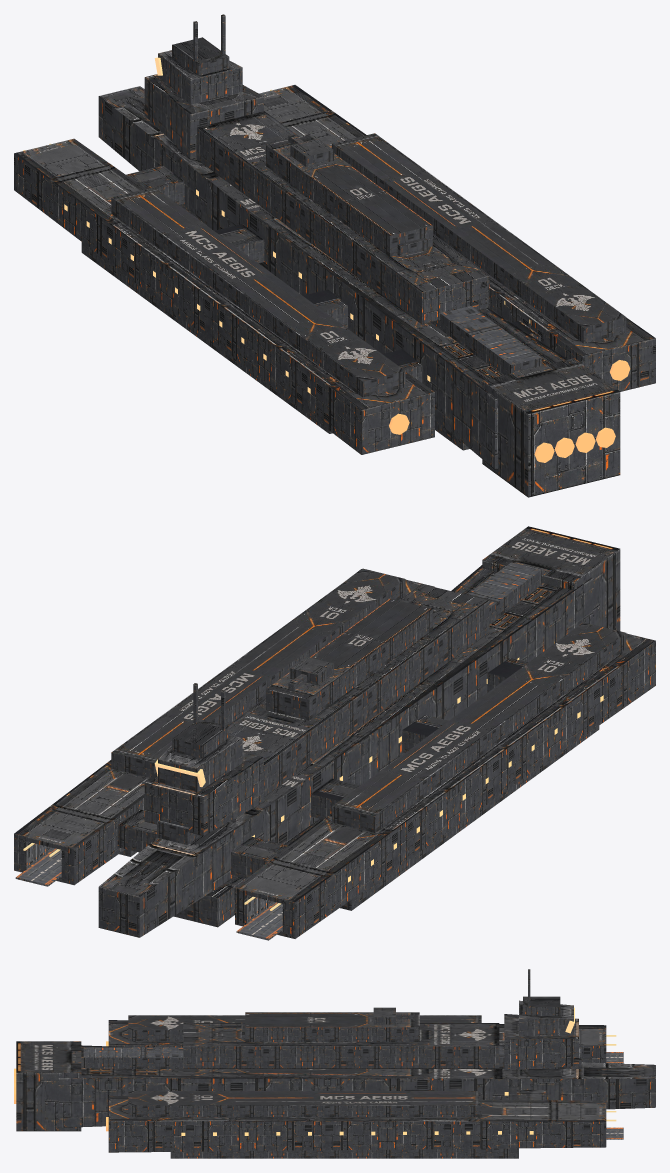
Rendered from bastion_carrier.glb.
3 renders of one model, top to bottom at view 1: azimuth 30°, elevation 25°; view 2: azimuth 150°, elevation 25°; view 3: azimuth 270°, elevation 25°, orthographic. The views are drawn at different scales.
Parts seen in each view (by area): view 1: Bastion_Pod_Port, Bastion_Hull, Bastion_DeckLow, Bastion_PodRidge_Port, Bastion_PodRidge_Stbd, Bastion_Stern, Bastion_Pod_Stbd, Bastion_DeckUp, Bastion_BridgeBase, Bastion_Spine, Bastion_BridgeMid, Bastion_PodKeel_Port (+5 smaller); view 2: Bastion_Hull, Bastion_Pod_Port, Bastion_PodRidge_Port, Bastion_DeckLow, Bastion_PodRidge_Stbd, Bastion_Pod_Stbd, Bastion_DeckUp, Bastion_Stern, Bastion_BridgeBase, Bastion_Spine, Bastion_BridgeMid, Bastion_PodKeel_Port (+10 smaller); view 3: Bastion_Pod_Stbd, Bastion_Hull, Bastion_DeckLow, Bastion_PodRidge_Stbd, Bastion_DeckUp, Bastion_Stern, Bastion_PodKeel_Stbd, Bastion_BridgeBase, Bastion_Spine, Bastion_PodRidge_Port, Bastion_Pod_Port, Bastion_BridgeMid (+3 smaller).
Part boxes in pixels (box(x1,y1,x2,y2)): Bastion_Pod_Port: box(14, 138, 434, 454); Bastion_Hull: box(98, 86, 567, 469); Bastion_DeckLow: box(197, 111, 489, 324); Bastion_PodRidge_Port: box(111, 187, 405, 397); Bastion_PodRidge_Stbd: box(332, 133, 626, 343); Bastion_Stern: box(482, 358, 620, 497); Bastion_Pod_Stbd: box(259, 85, 655, 391); Bastion_DeckUp: box(266, 135, 432, 256); Bastion_BridgeBase: box(144, 74, 263, 159); Bastion_Spine: box(430, 306, 541, 374); Bastion_BridgeMid: box(158, 50, 242, 104); Bastion_PodKeel_Port: box(81, 242, 332, 433); Bastion_Hull: box(98, 565, 593, 937); Bastion_Pod_Port: box(235, 622, 655, 938); Bastion_PodRidge_Port: box(332, 622, 626, 832); Bastion_DeckLow: box(228, 584, 489, 796); Bastion_PodRidge_Stbd: box(111, 568, 405, 777); Bastion_Pod_Stbd: box(14, 569, 434, 885); Bastion_DeckUp: box(266, 598, 432, 720); Bastion_Stern: box(482, 526, 620, 630); Bastion_BridgeBase: box(144, 752, 263, 835); Bastion_Spine: box(157, 562, 541, 844); Bastion_BridgeMid: box(158, 735, 242, 792); Bastion_PodKeel_Port: box(340, 726, 599, 910); Bastion_Pod_Stbd: box(108, 1095, 606, 1152); Bastion_Hull: box(58, 1045, 655, 1127); Bastion_DeckLow: box(183, 1023, 499, 1068); Bastion_PodRidge_Stbd: box(128, 1091, 481, 1116); Bastion_DeckUp: box(245, 1012, 419, 1041); Bastion_Stern: box(16, 1041, 81, 1131); Bastion_PodKeel_Stbd: box(170, 1148, 518, 1158); Bastion_BridgeBase: box(504, 1014, 578, 1070); Bastion_Spine: box(83, 1047, 581, 1068); Bastion_PodRidge_Port: box(128, 1015, 481, 1041); Bastion_Pod_Port: box(108, 1020, 606, 1063); Bastion_BridgeMid: box(519, 1000, 573, 1035).
Bounding box in the file's own units: 9.6 × 6.55 × 25.8.
7 materials, 3 textured.
